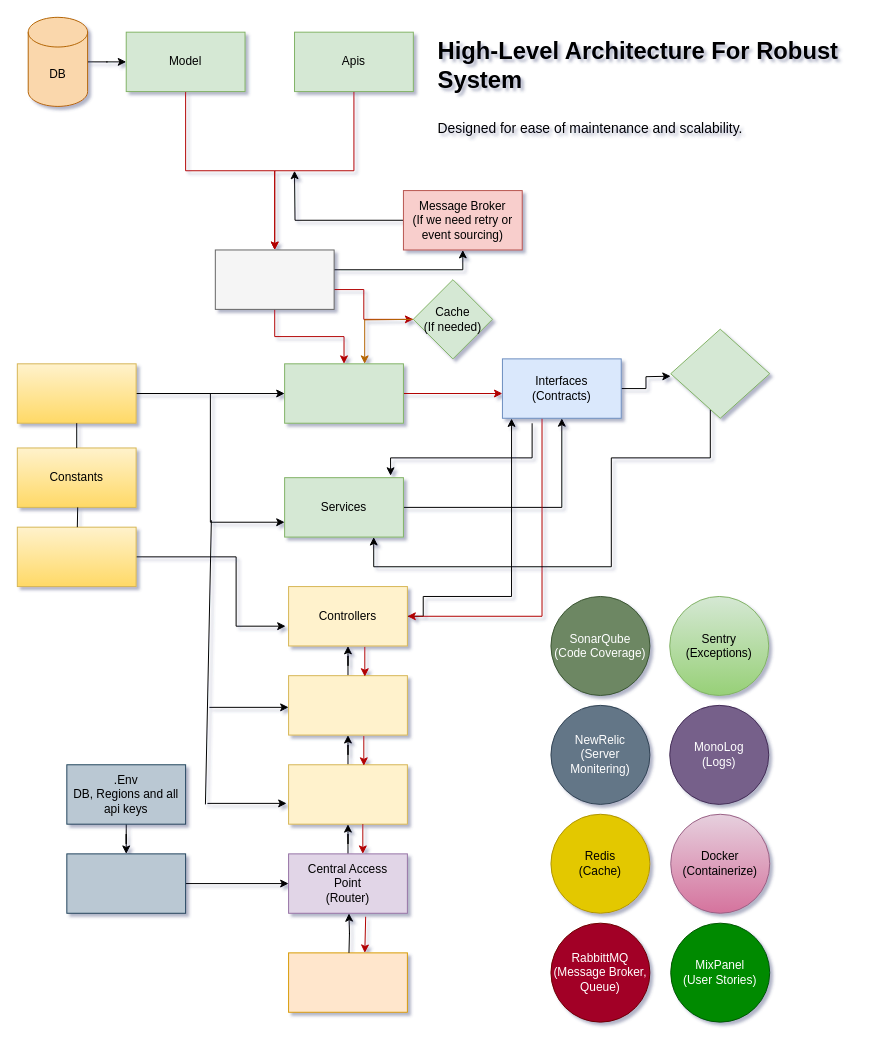
Image size: 882x1045. Some labels were removed from this diagram. The shapes that lost their labels are listed below. From the top down, each one's centre as x and y in pixels, then its label:
At point (274, 279): "Data Parser".
At point (76, 393): "Exceptions".
At point (343, 393): "Repositeries".
At point (720, 373): "Facades (If needed)".
At point (76, 556): "Tests".
At point (347, 705): "Validation".
At point (347, 794): "Middleware".
At point (126, 883): "Config".
At point (347, 982): "Gateway".
